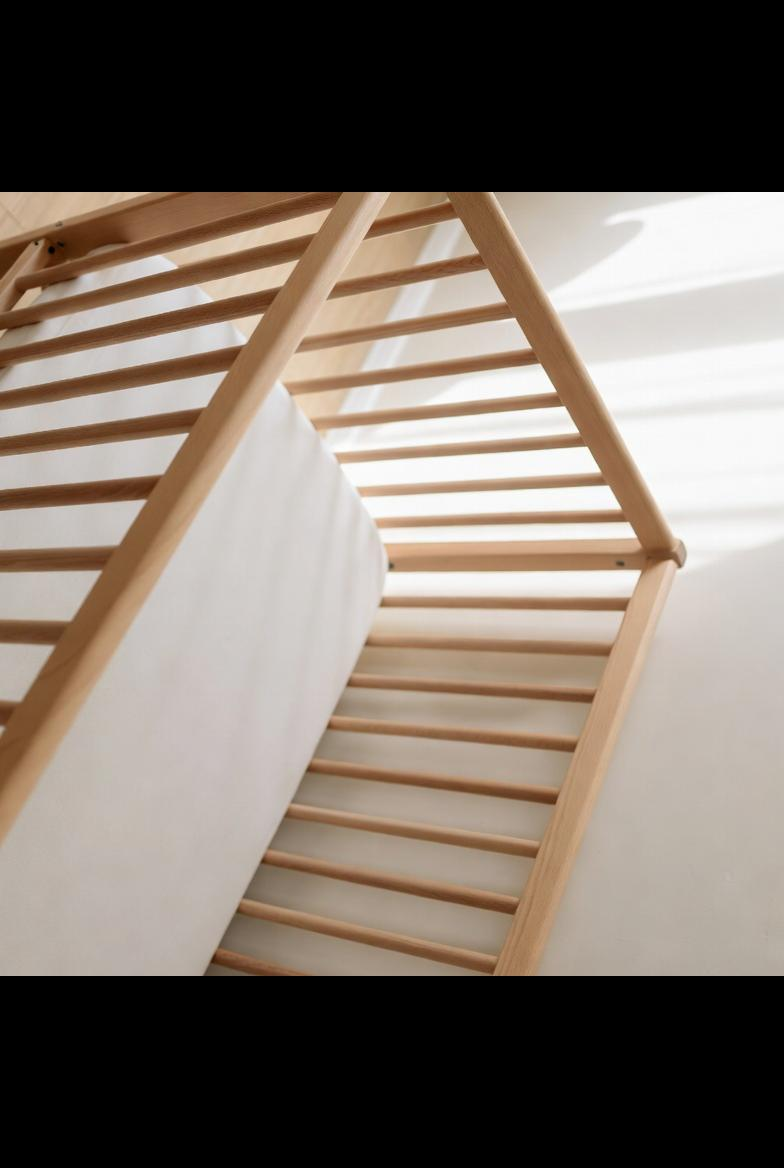crib: (0, 192, 682, 976)
